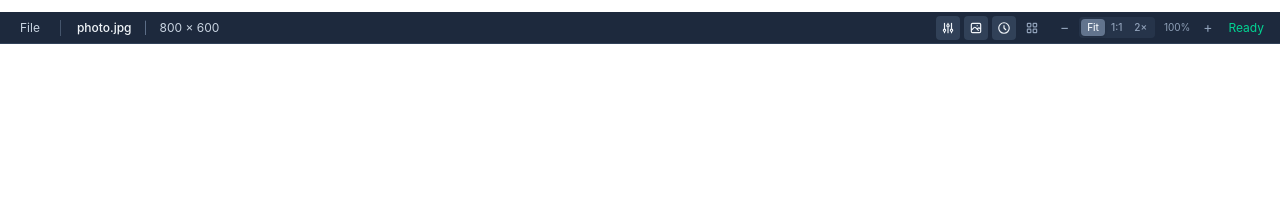
Test: BottomPanel › Save is enabled when image is loaded
This screenshot has width=1280, height=216.
Click the button "File".
click(30, 28)  # box [16,18,44,38]
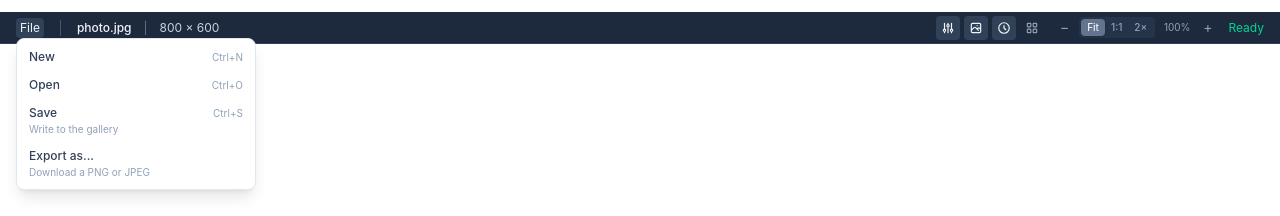
Check: the menu item "Save Ctrl+S Write to the gallery" is enabled, box [17,98,255,142]
